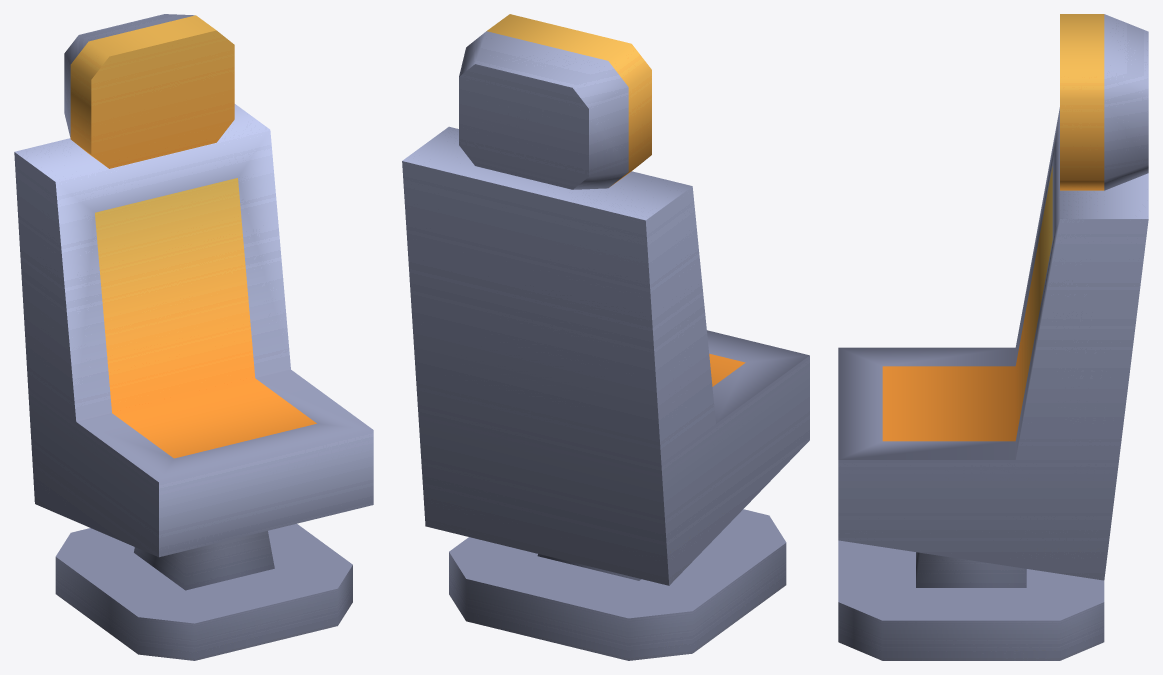
File: chair-cushion-headrest.glb
3 views of the same model, side by side, from view 1: azimuth 30°, elevation 25°; view 2: azimuth 150°, elevation 25°; view 3: azimuth 270°, elevation 25° (orthographic). The views are drawn at different scales.
Parts seen in each view (by area): view 1: chair-cushion-headrest; view 2: chair-cushion-headrest; view 3: chair-cushion-headrest.
Boxes of the visible parts, x1,y1,x2,y2 form: chair-cushion-headrest: (14, 14, 373, 660); chair-cushion-headrest: (402, 14, 809, 660); chair-cushion-headrest: (838, 14, 1148, 660).
Size of the model in its own units: 0.3 by 0.7 by 0.35.
Materials: 1 (1 with a texture image).
